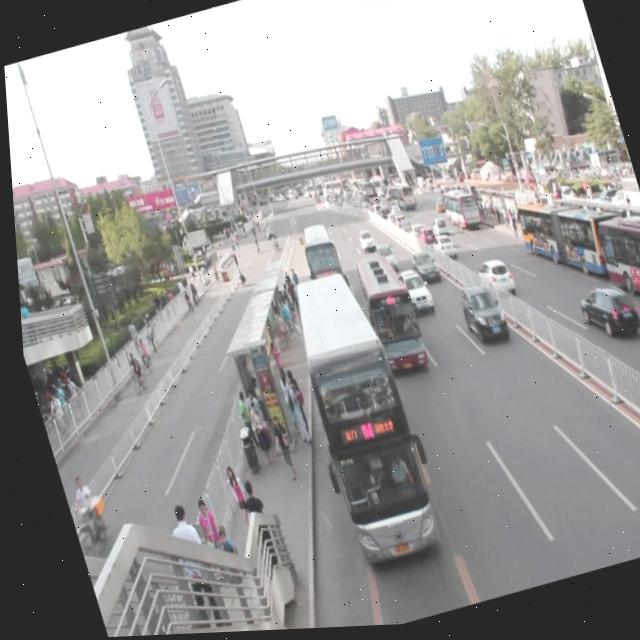car: (447, 278, 512, 359), (388, 265, 432, 322), (402, 248, 441, 292), (364, 240, 396, 279), (349, 227, 374, 260)
van: (266, 262, 452, 586), (339, 247, 432, 391), (287, 218, 349, 308)
